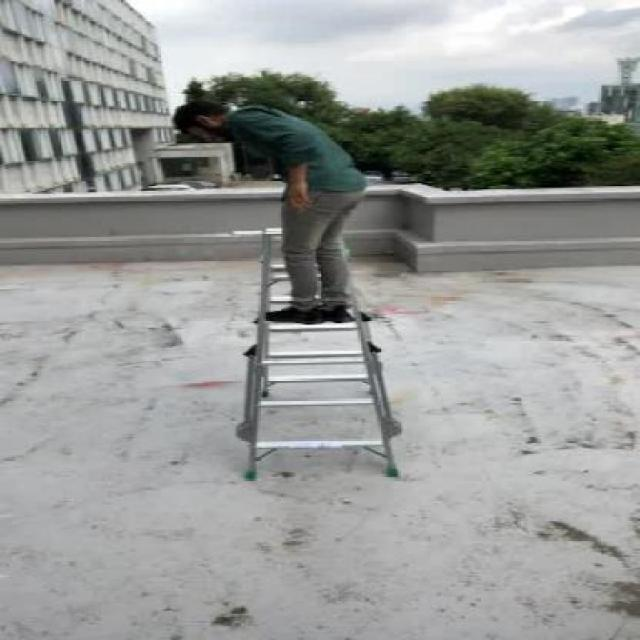hard hat: (230, 214, 414, 493)
vest: (170, 83, 386, 329)
